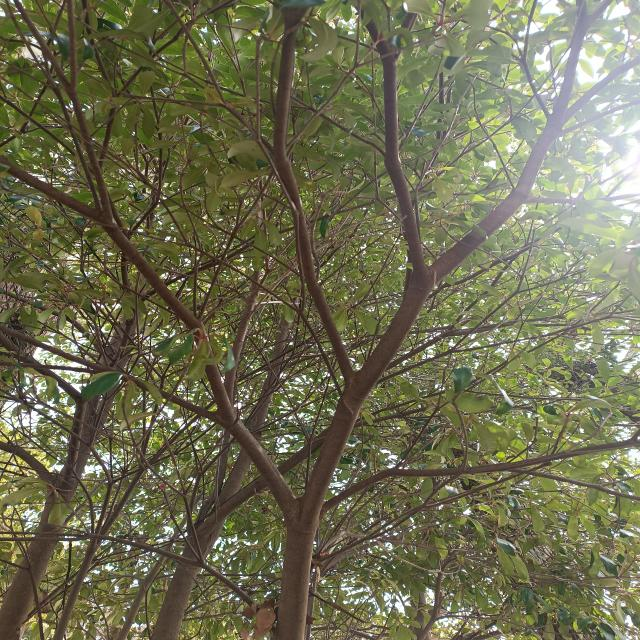Branch: (306, 267, 438, 511), (217, 413, 296, 524)
Twig: (0, 0, 234, 411), (433, 0, 588, 280), (161, 193, 345, 396), (0, 517, 273, 633), (273, 0, 353, 390), (322, 439, 638, 514), (0, 323, 225, 427), (358, 0, 425, 272), (377, 315, 639, 384), (385, 315, 565, 372), (529, 191, 638, 204)
